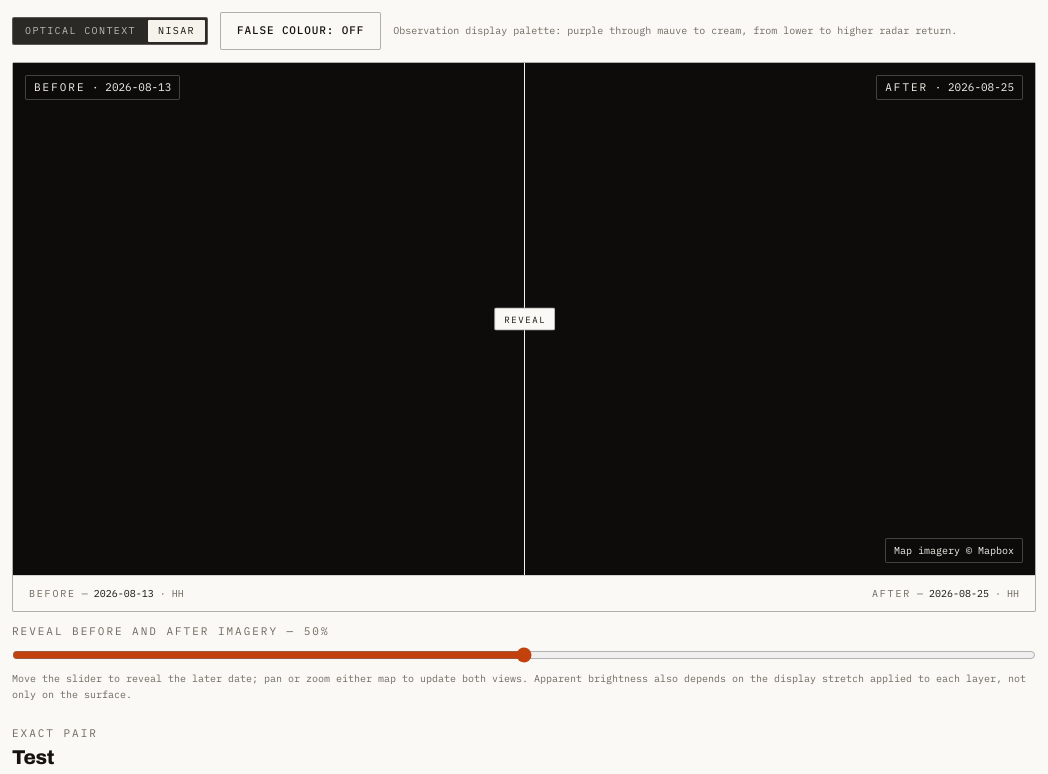
Test: applies the same display palette to both comparison observations
Click the button "False colour: off" at x=301, y=31, box [220, 12, 381, 50]
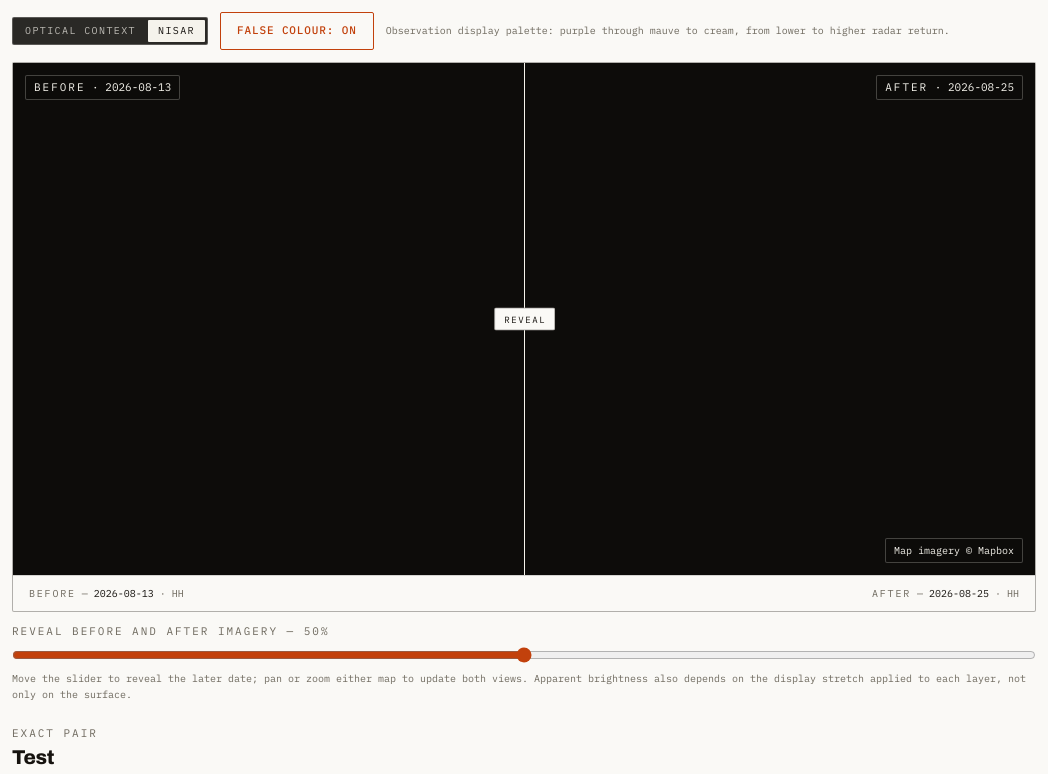
Check: the button "False colour: on" is shown
Click the button "False colour: on" at x=297, y=31, box [220, 12, 374, 50]
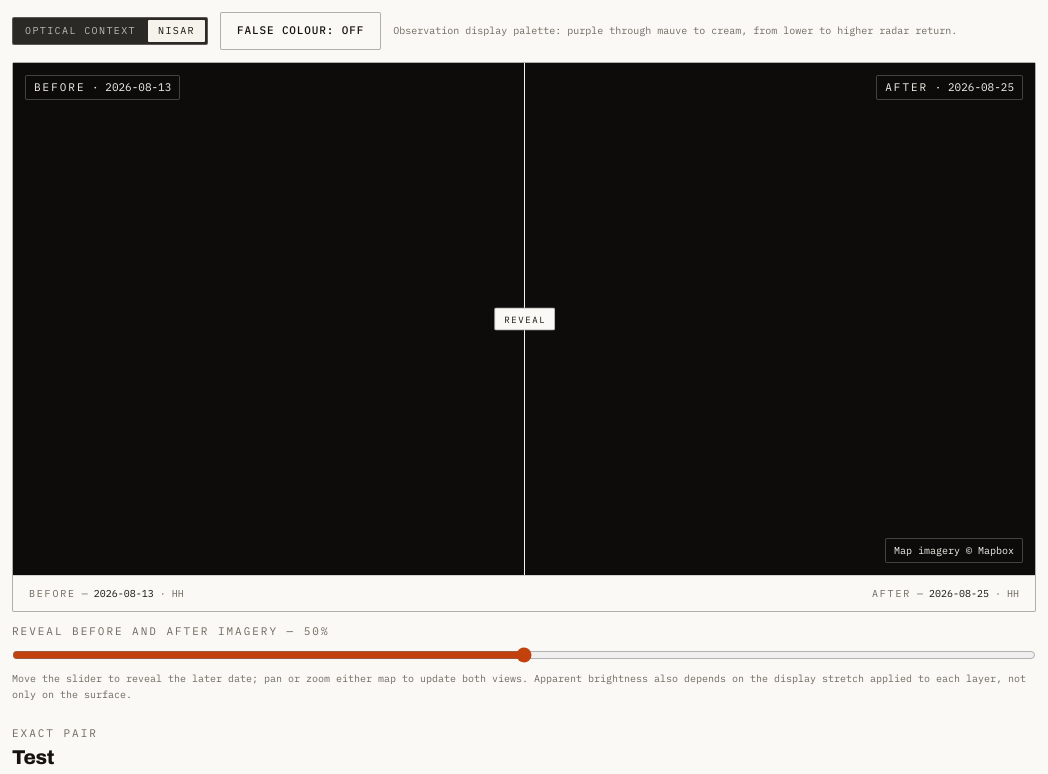
Check: the button "False colour: off" is shown, box [220, 12, 381, 50]
